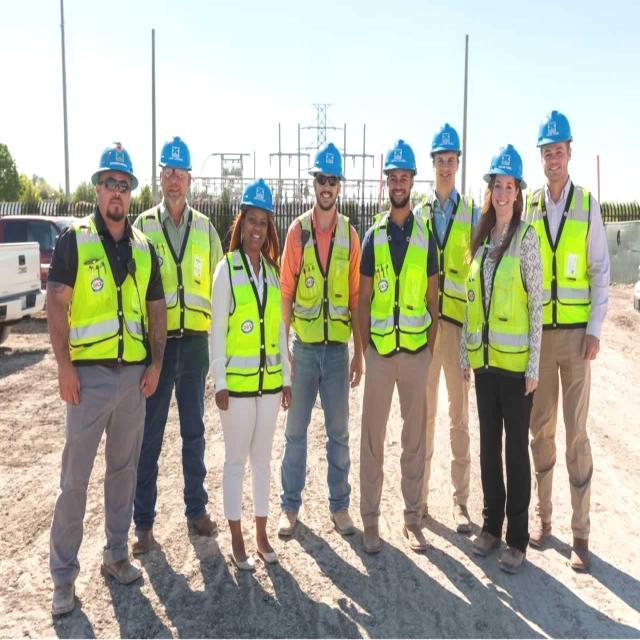face_nomask: (97, 171, 131, 221), (160, 168, 188, 214), (540, 143, 566, 185), (488, 176, 516, 214), (310, 176, 340, 211), (242, 214, 268, 253), (387, 172, 411, 211), (434, 154, 456, 188)
hand_noglove: (54, 361, 84, 410), (137, 363, 165, 402), (579, 334, 603, 365), (346, 352, 363, 389), (277, 386, 293, 414), (214, 386, 228, 414)
head_helmet: (90, 137, 137, 178), (534, 109, 575, 148), (484, 142, 525, 180), (430, 123, 464, 158), (381, 137, 415, 172), (157, 136, 191, 170), (310, 146, 344, 180), (241, 178, 275, 212)
person: (52, 146, 152, 578), (526, 116, 594, 558), (139, 137, 213, 536), (286, 144, 360, 533), (364, 140, 431, 541), (470, 140, 533, 556), (218, 178, 284, 555), (422, 122, 469, 530)
shoes: (97, 552, 145, 593), (496, 530, 532, 572), (566, 523, 594, 572), (470, 520, 504, 560), (277, 499, 307, 543), (182, 504, 218, 540), (49, 576, 78, 620), (225, 536, 258, 574), (527, 511, 557, 550), (401, 517, 431, 555), (358, 516, 385, 556), (252, 530, 282, 566), (329, 502, 356, 538), (128, 522, 156, 555), (446, 498, 472, 533)
vest: (70, 218, 148, 359), (466, 219, 530, 369), (137, 206, 210, 333), (530, 184, 590, 325), (369, 211, 429, 352), (226, 246, 281, 392), (296, 211, 352, 340), (424, 192, 469, 322)
